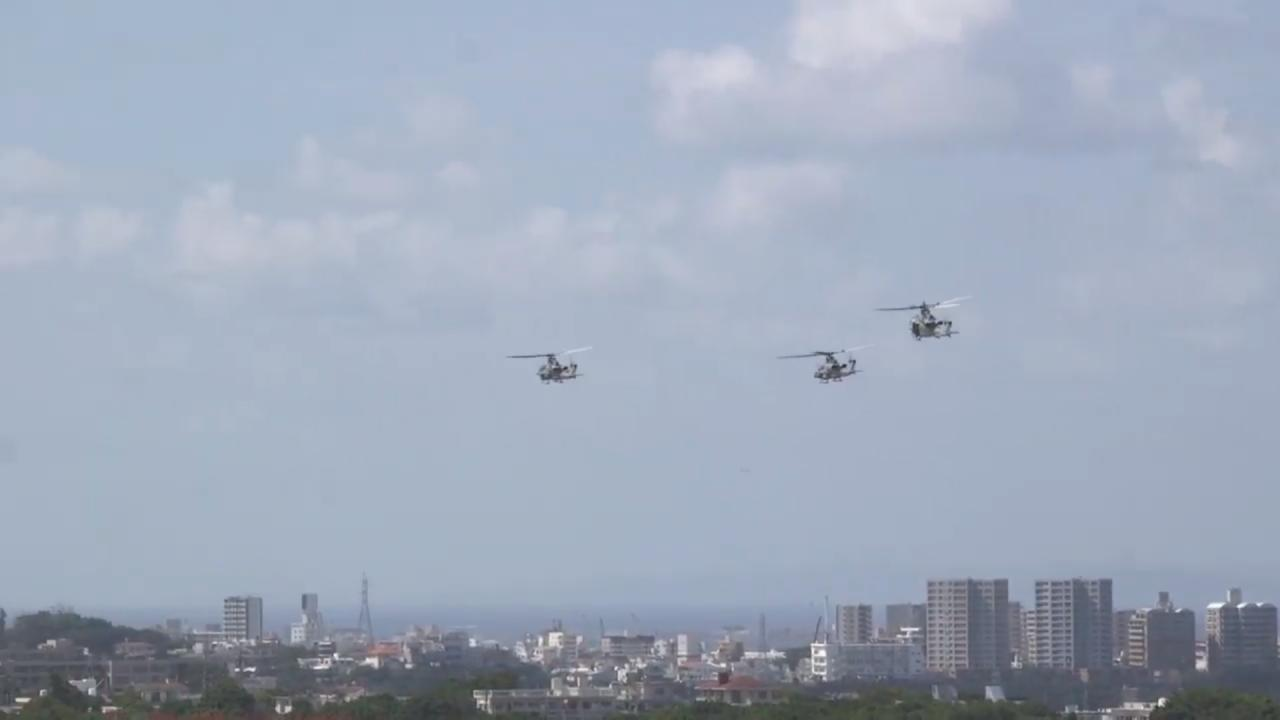Helicopter: (859, 274, 994, 358), (496, 325, 613, 407), (765, 328, 890, 400)
